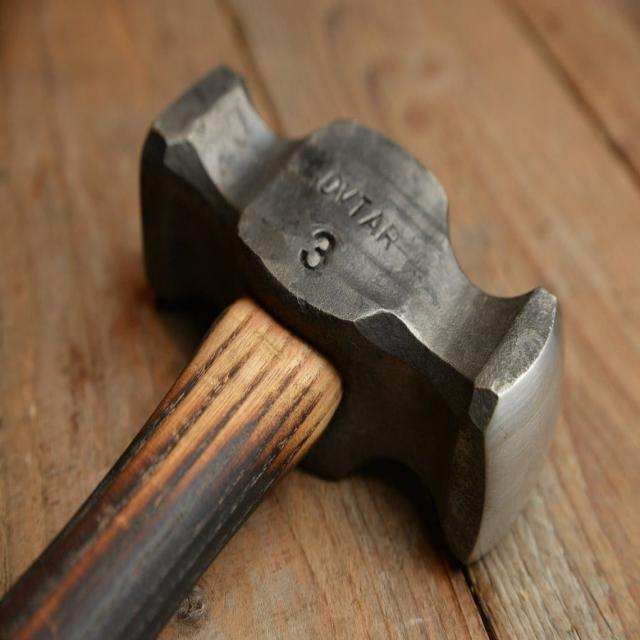hammer: (0, 49, 566, 640)
